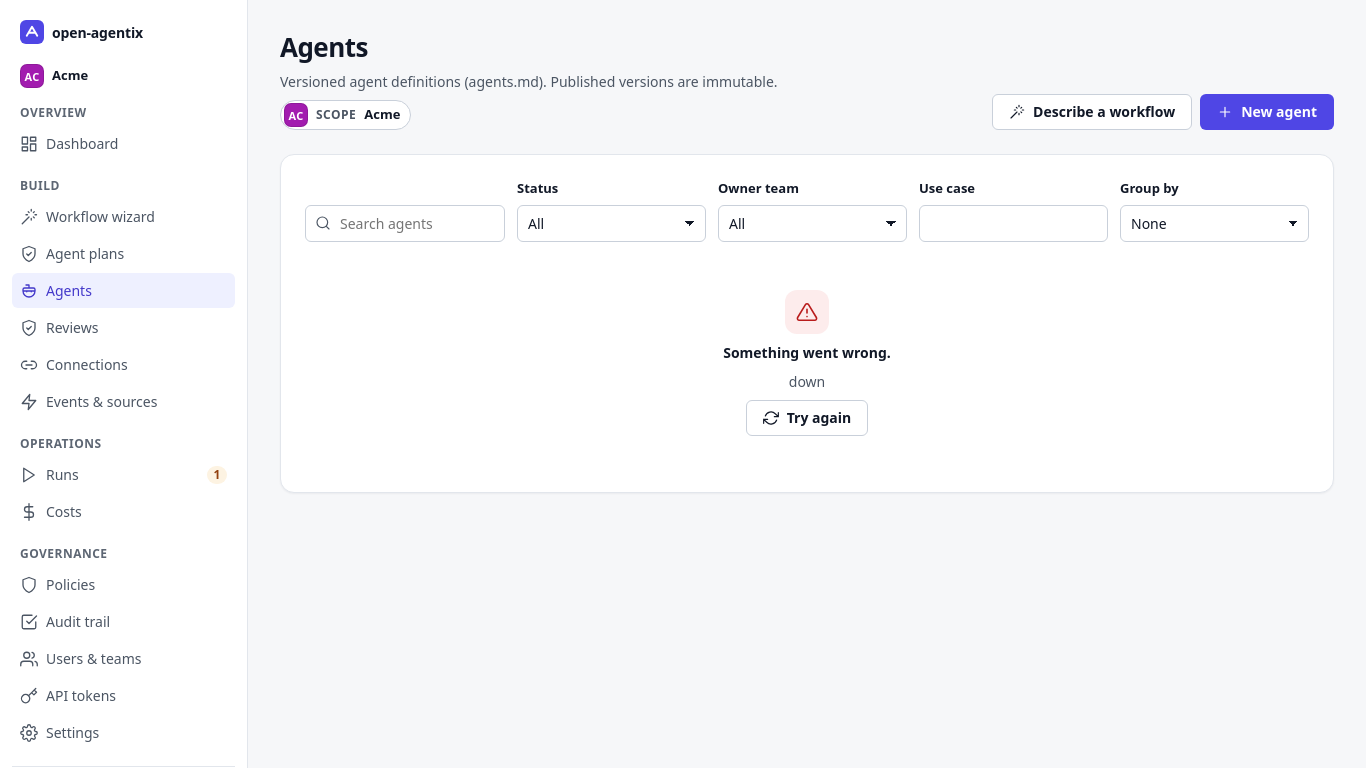
agents list v2: paging, loading, empty and error states › shows errors with a retry that works
Expected: the message shows "down", [789,372,825,391]
Click the button "Try again" at point(807, 418), box [746,400,868,436]
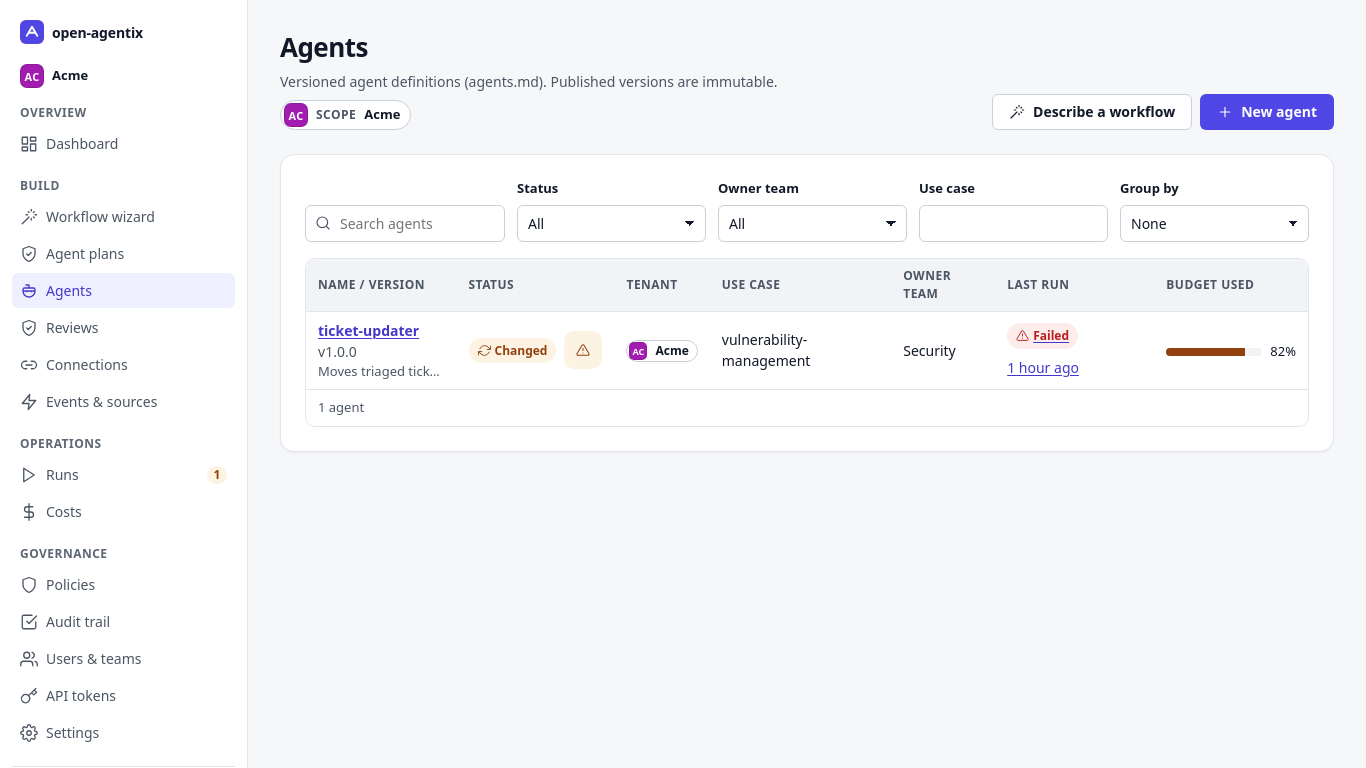
Result: the link "ticket-updater" is shown at [318,321,419,340]
